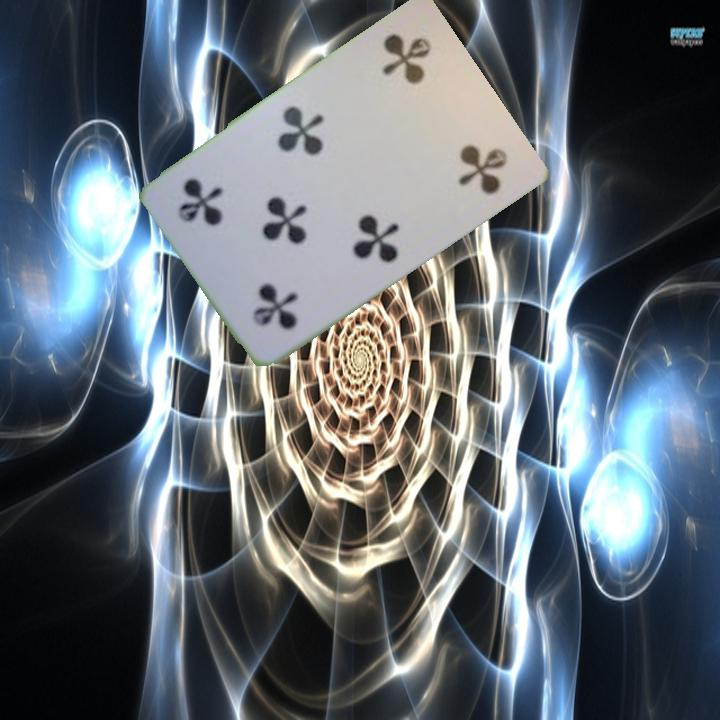c_7.png: (209, 222, 334, 351), (351, 12, 476, 141)
